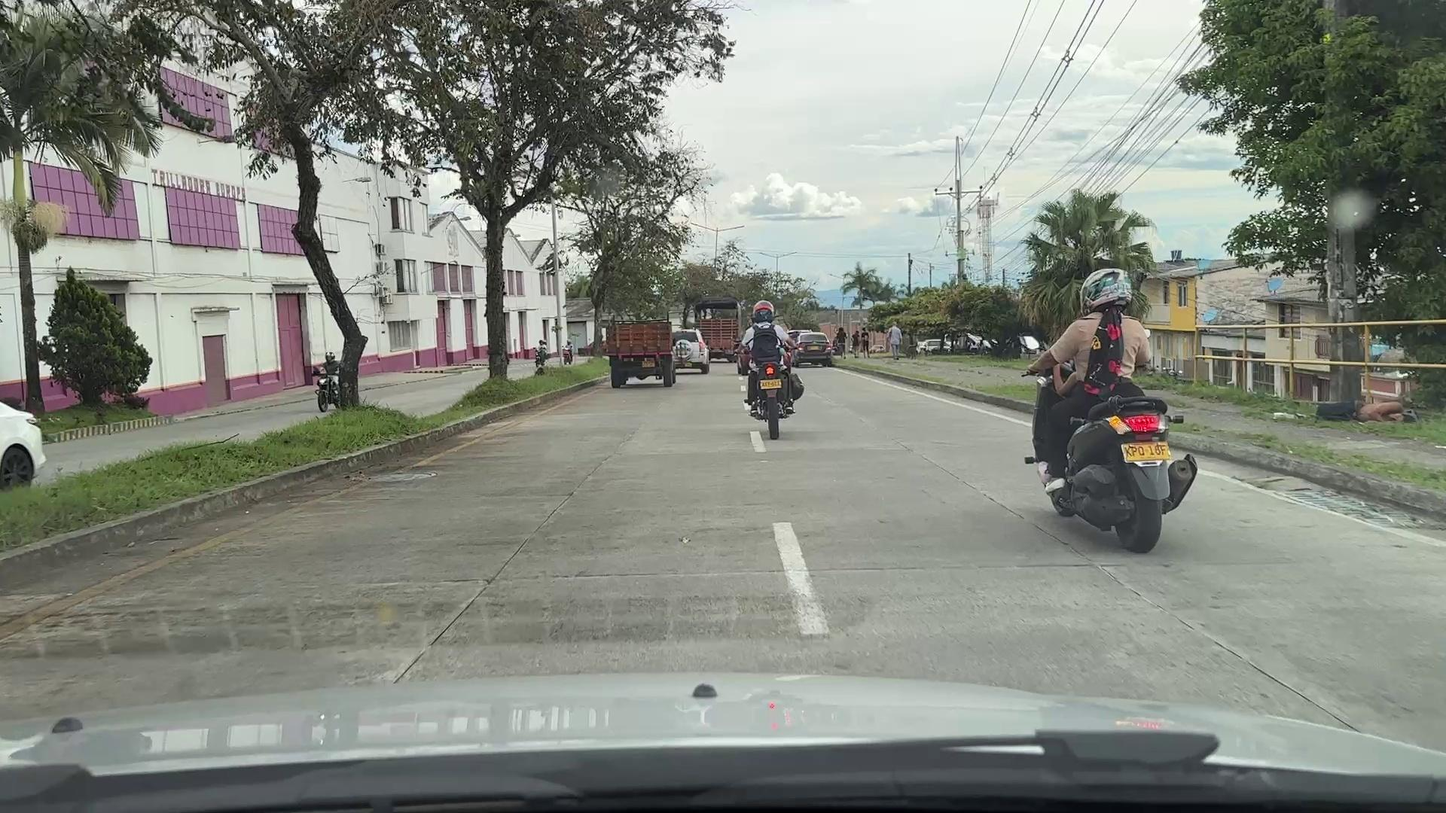bache: (0, 678, 1445, 812)
registro: (371, 470, 436, 482)
rejilla: (1278, 489, 1441, 527)
